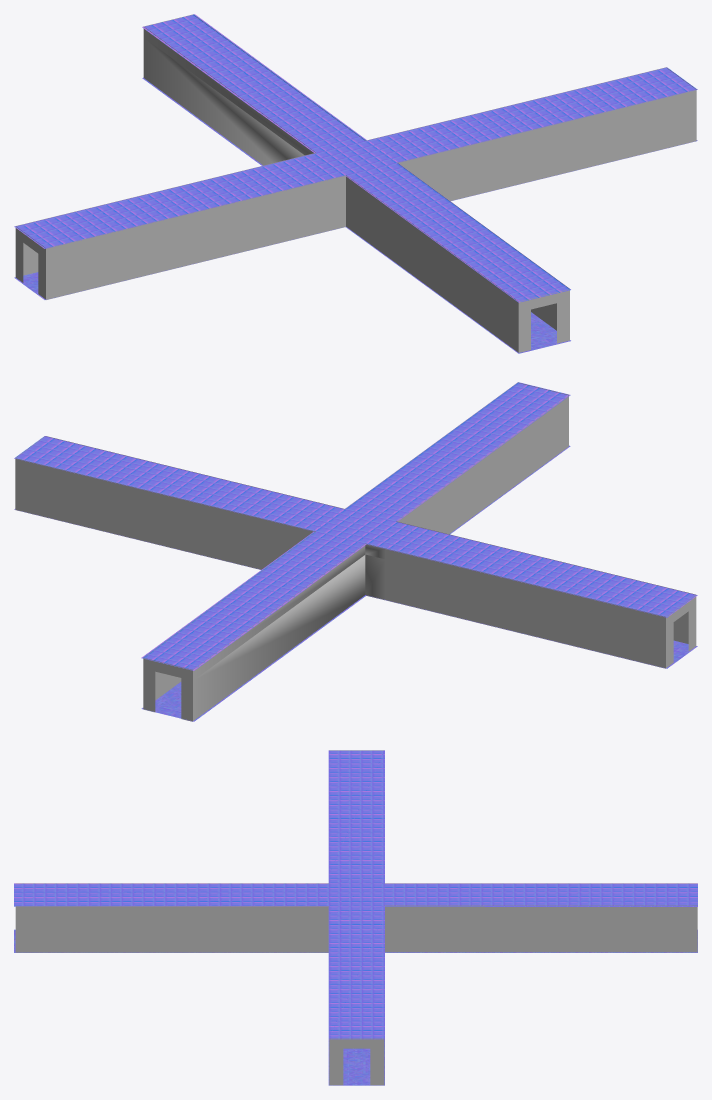
The model's file is basic_cross.fbx.
The picture shows the model from 3 angles, top to bottom: view 1: azimuth 30°, elevation 25°; view 2: azimuth 150°, elevation 25°; view 3: azimuth 270°, elevation 25°; orthographic projection. The views are drawn at different scales.
Parts seen in each view (by area): view 1: cross; view 2: cross; view 3: cross.
Boxes of the visible parts, x1,y1,x2,y2 form: cross: (14,14,697,353); cross: (14,382,697,721); cross: (14,750,697,1085).
Size of the model in its own units: 3998 by 304 by 3995.
